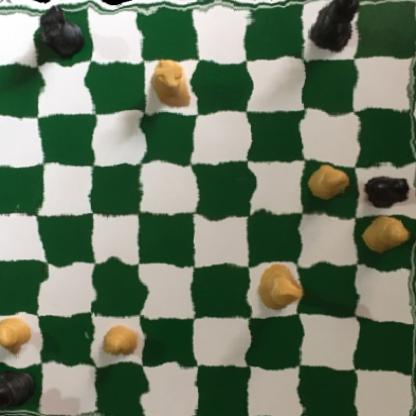black-bishop: (0, 368, 38, 413)
black-king: (309, 0, 361, 58)
black-pawn: (360, 173, 412, 208)
black-rook: (30, 0, 87, 60)
white-king: (256, 266, 298, 314)
white-pawn: (362, 216, 410, 252), (309, 161, 350, 203), (99, 321, 138, 360), (0, 315, 33, 352)
white-rook: (148, 56, 195, 112)
